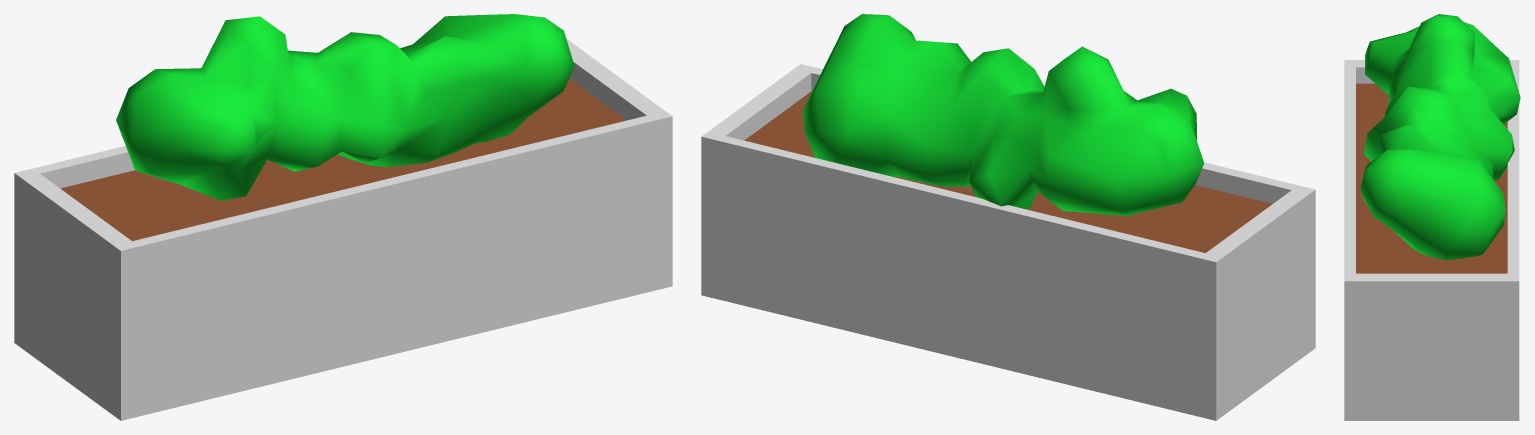
File: planter.fbx
3 renders of one model, left to right at view 1: azimuth 30°, elevation 25°; view 2: azimuth 150°, elevation 25°; view 3: azimuth 270°, elevation 25°, orthographic. The views are drawn at different scales.
Parts seen in each view (by area): view 1: planters.001; view 2: planters.001; view 3: planters.001.
Boxes of the visible parts, x1,y1,x2,y2 form: planters.001: (14, 14, 672, 420); planters.001: (701, 14, 1315, 420); planters.001: (1344, 14, 1520, 420).
Bounding box in the file's own units: 340 × 186 × 114.
